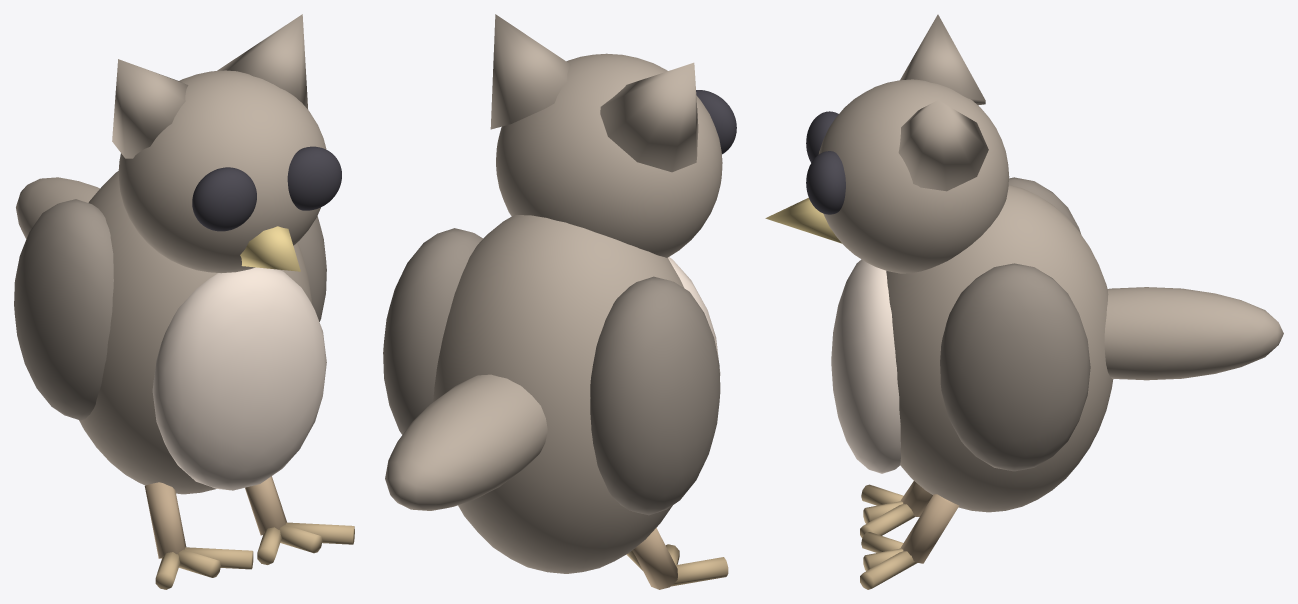
File: bird-owl.glb
3 views of the same model, side by side, from view 1: azimuth 30°, elevation 25°; view 2: azimuth 150°, elevation 25°; view 3: azimuth 270°, elevation 25° (orthographic). The views are drawn at different scales.
Visible parts, largest first — view 1: material_806c59, material_e2c3aa, material_53473c, material_100f13, material_9b7545, material_8a6643, material_d0a54d; view 2: material_806c59, material_53473c, material_8a6643, material_9b7545, material_100f13, material_e2c3aa; view 3: material_806c59, material_53473c, material_e2c3aa, material_9b7545, material_100f13, material_8a6643, material_d0a54d.
Boxes of the visible parts, x1=… form: material_806c59: x1=16, y1=14, x2=326, y2=494; material_e2c3aa: x1=152, y1=267, x2=326, y2=490; material_53473c: x1=14, y1=199, x2=326, y2=420; material_100f13: x1=192, y1=146, x2=341, y2=231; material_9b7545: x1=155, y1=522, x2=354, y2=589; material_8a6643: x1=144, y1=476, x2=286, y2=558; material_d0a54d: x1=240, y1=226, x2=300, y2=271; material_806c59: x1=385, y1=14, x2=722, y2=573; material_53473c: x1=383, y1=228, x2=720, y2=515; material_8a6643: x1=632, y1=528, x2=677, y2=589; material_9b7545: x1=626, y1=544, x2=728, y2=586; material_100f13: x1=696, y1=90, x2=736, y2=154; material_e2c3aa: x1=668, y1=257, x2=720, y2=375; material_806c59: x1=818, y1=14, x2=1283, y2=512; material_53473c: x1=940, y1=177, x2=1090, y2=471; material_e2c3aa: x1=831, y1=259, x2=900, y2=473; material_9b7545: x1=860, y1=484, x2=917, y2=589; material_100f13: x1=806, y1=111, x2=845, y2=214; material_8a6643: x1=900, y1=481, x2=959, y2=563; material_d0a54d: x1=765, y1=197, x2=842, y2=243.
Size of the model in its own units: 0.62 by 1.05 by 1.02.
